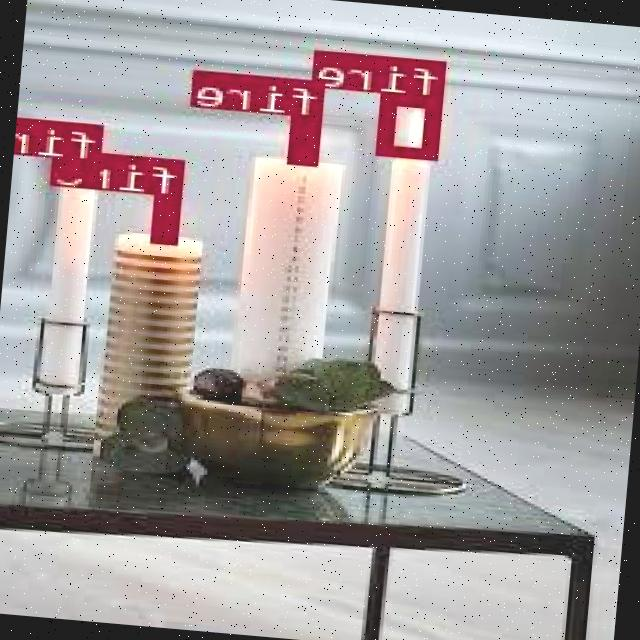fire: (382, 91, 444, 157), (64, 120, 108, 178), (291, 114, 324, 164), (154, 195, 185, 242)
